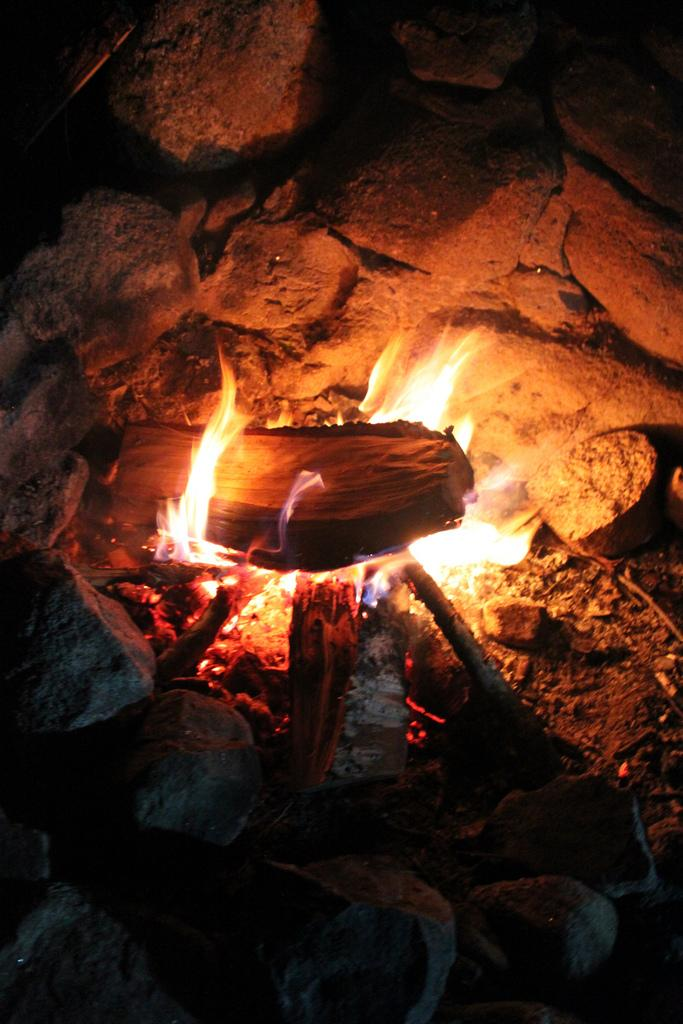fire: (368, 345, 472, 418), (175, 435, 228, 568)
